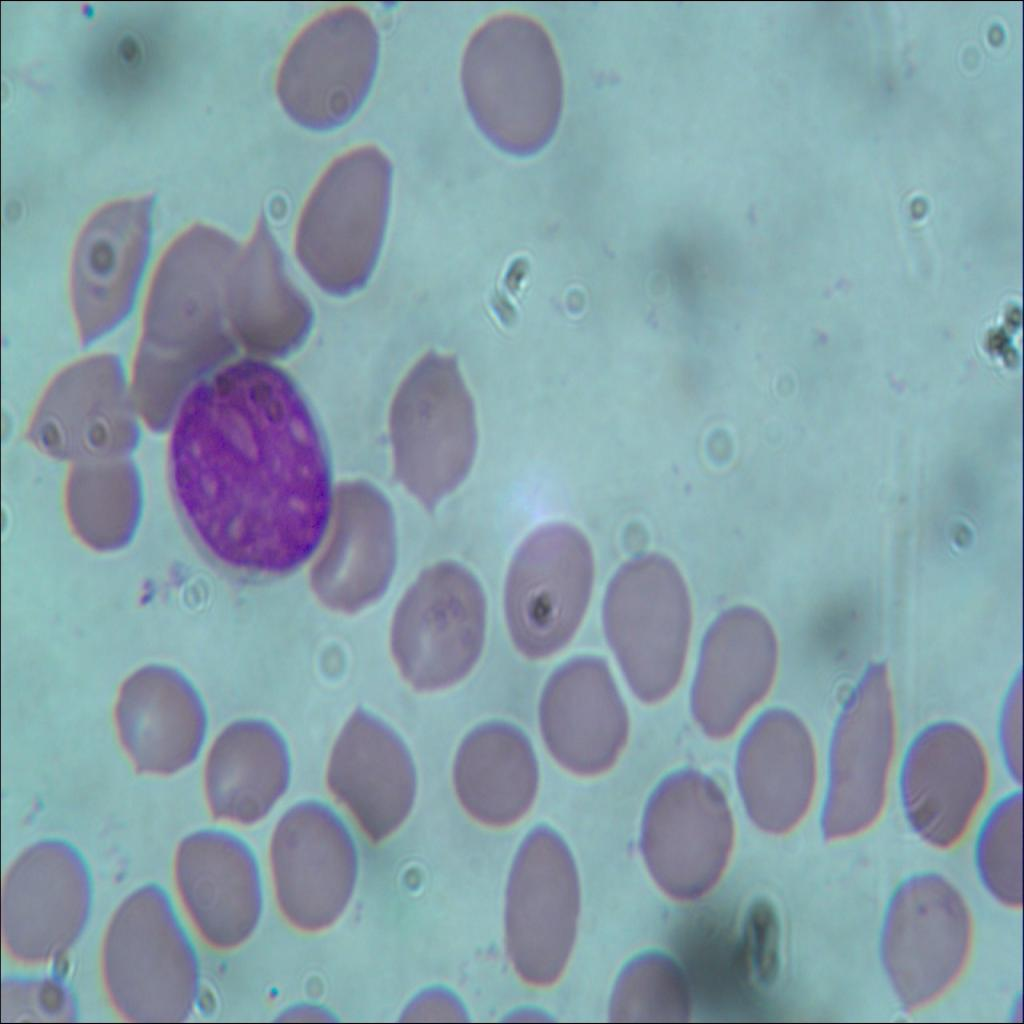Eritrosit: (18, 328, 146, 470), (452, 5, 566, 159), (378, 340, 478, 515), (291, 138, 395, 304), (870, 864, 978, 1012), (56, 177, 150, 346), (270, 1, 389, 134), (821, 649, 899, 848), (599, 545, 694, 708), (139, 219, 249, 351), (323, 704, 422, 848), (535, 644, 634, 787), (493, 505, 588, 654), (218, 218, 315, 362), (506, 811, 580, 995), (686, 600, 780, 744), (98, 891, 198, 1023), (268, 801, 363, 936), (732, 698, 822, 837), (394, 558, 488, 691), (642, 762, 736, 892), (446, 705, 540, 834), (315, 474, 399, 618), (898, 714, 986, 851), (2, 838, 90, 968), (196, 707, 291, 824), (114, 662, 211, 776), (175, 825, 266, 944), (118, 299, 226, 399), (56, 450, 138, 559), (598, 939, 699, 1023)
Limfoblast: (162, 358, 336, 584)
Platelet: (70, 0, 96, 25)
